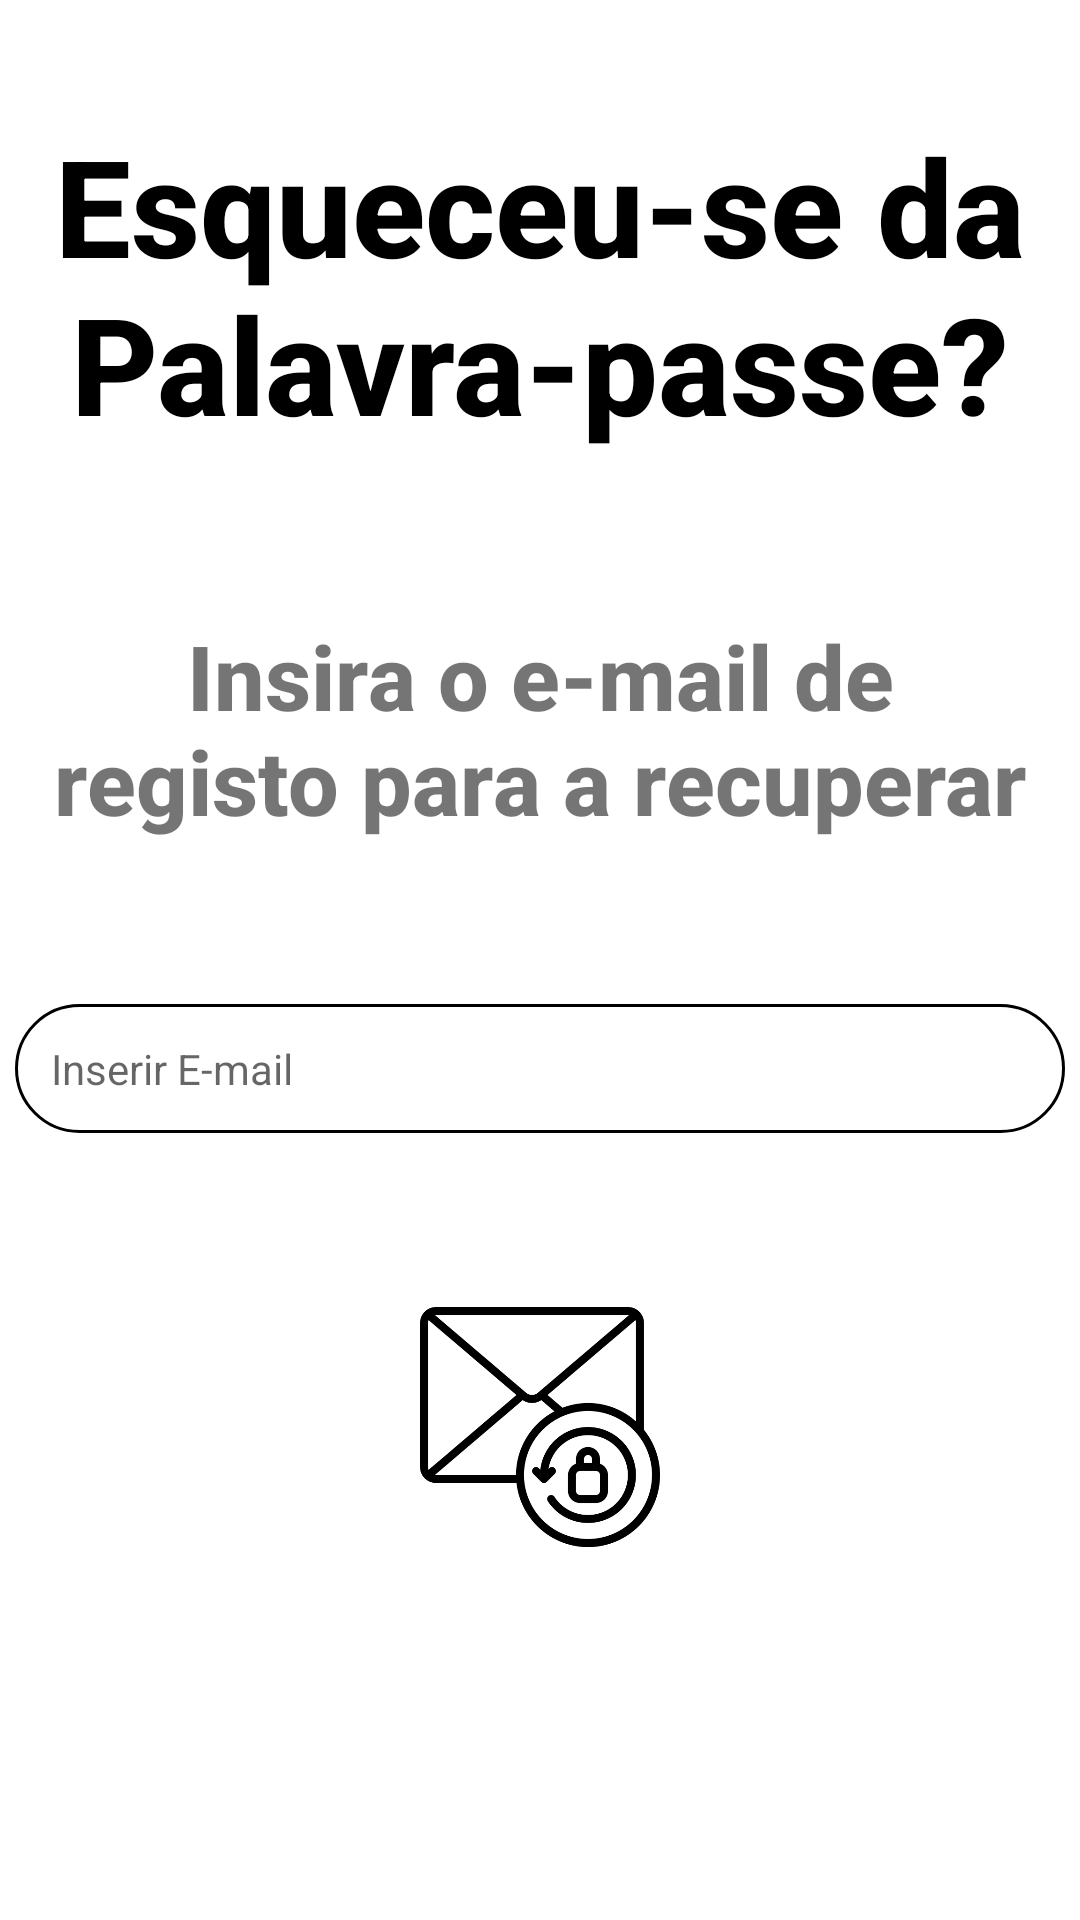

Screen size 1080px x 1920px. Icon name, then its center in pixels as point (x, y):
password reset: point (540, 1427)
